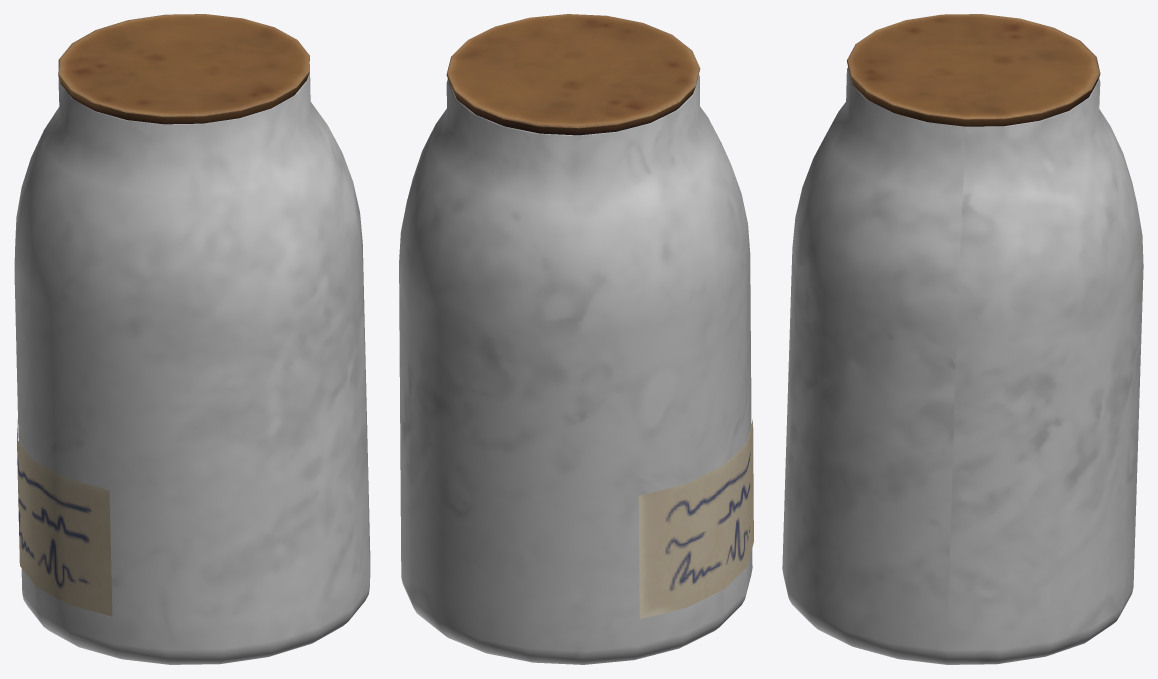
File: SM_FoodPot_03.fbx
3 views of the same model, side by side, from view 1: azimuth 30°, elevation 25°; view 2: azimuth 150°, elevation 25°; view 3: azimuth 270°, elevation 25° (orthographic).
Parts seen in each view (by area): view 1: SM_FoodPot_03_LOD0; view 2: SM_FoodPot_03_LOD0; view 3: SM_FoodPot_03_LOD0.
Part boxes in pixels (left/top/right/bottom): SM_FoodPot_03_LOD0: left=14, top=14, right=370, bottom=664; SM_FoodPot_03_LOD0: left=399, top=14, right=753, bottom=664; SM_FoodPot_03_LOD0: left=782, top=14, right=1143, bottom=664.
Bounding box in the file's own units: 10.6 × 10.79 × 17.81.
2 materials, 2 textured.
